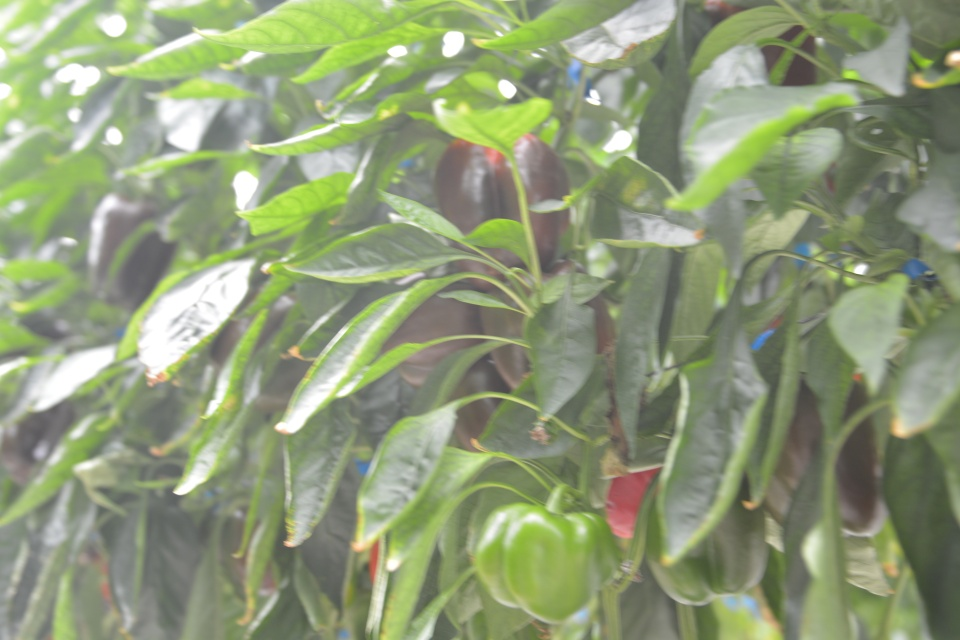fruit: (434, 130, 570, 294), (760, 368, 888, 541), (480, 256, 618, 396), (472, 498, 621, 626), (643, 467, 771, 608), (209, 282, 316, 412), (381, 264, 482, 390), (85, 190, 179, 312), (702, 0, 816, 87), (450, 356, 517, 452)
